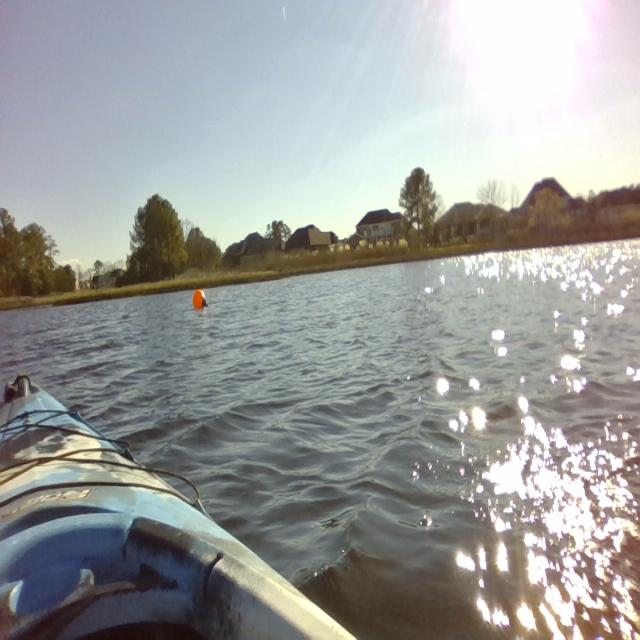Buoy: (188, 278, 210, 315)
